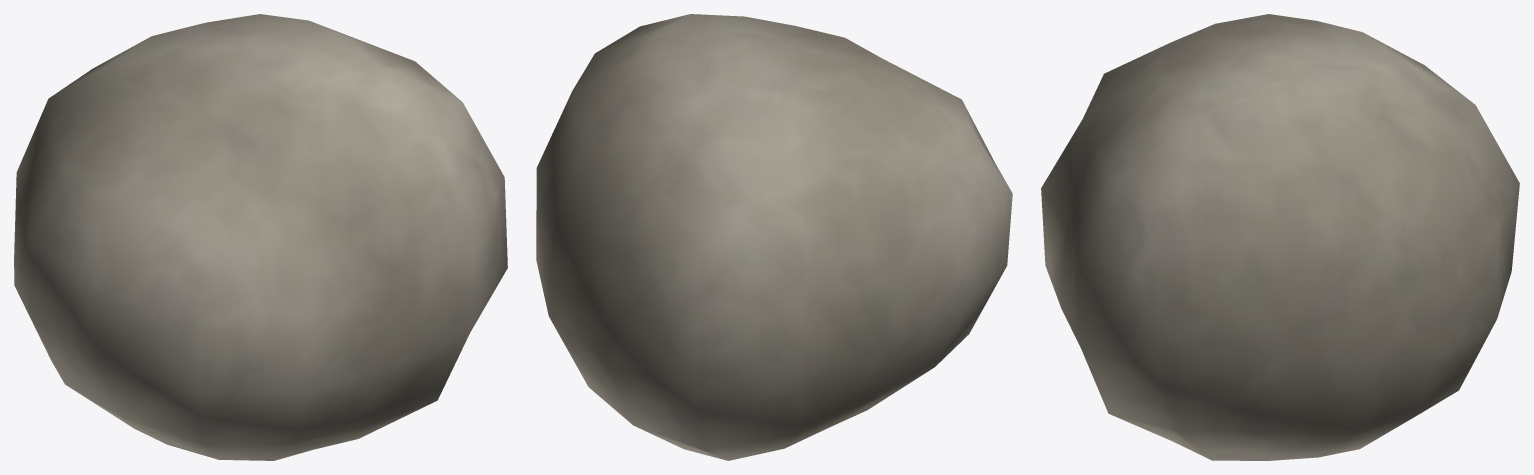
File: pebble_02.glb
3 views of the same model, side by side, from view 1: azimuth 30°, elevation 25°; view 2: azimuth 150°, elevation 25°; view 3: azimuth 270°, elevation 25° (orthographic). The views are drawn at different scales.
Visible parts, largest first — view 1: pebble_02; view 2: pebble_02; view 3: pebble_02.
Part boxes in pixels (box(x1,y1,x2,y2)): pebble_02: box(14, 14, 507, 460); pebble_02: box(536, 14, 1012, 460); pebble_02: box(1041, 14, 1519, 460).
Size of the model in its own units: 2.04 by 1.76 by 2.02.
1 material, 1 textured.
